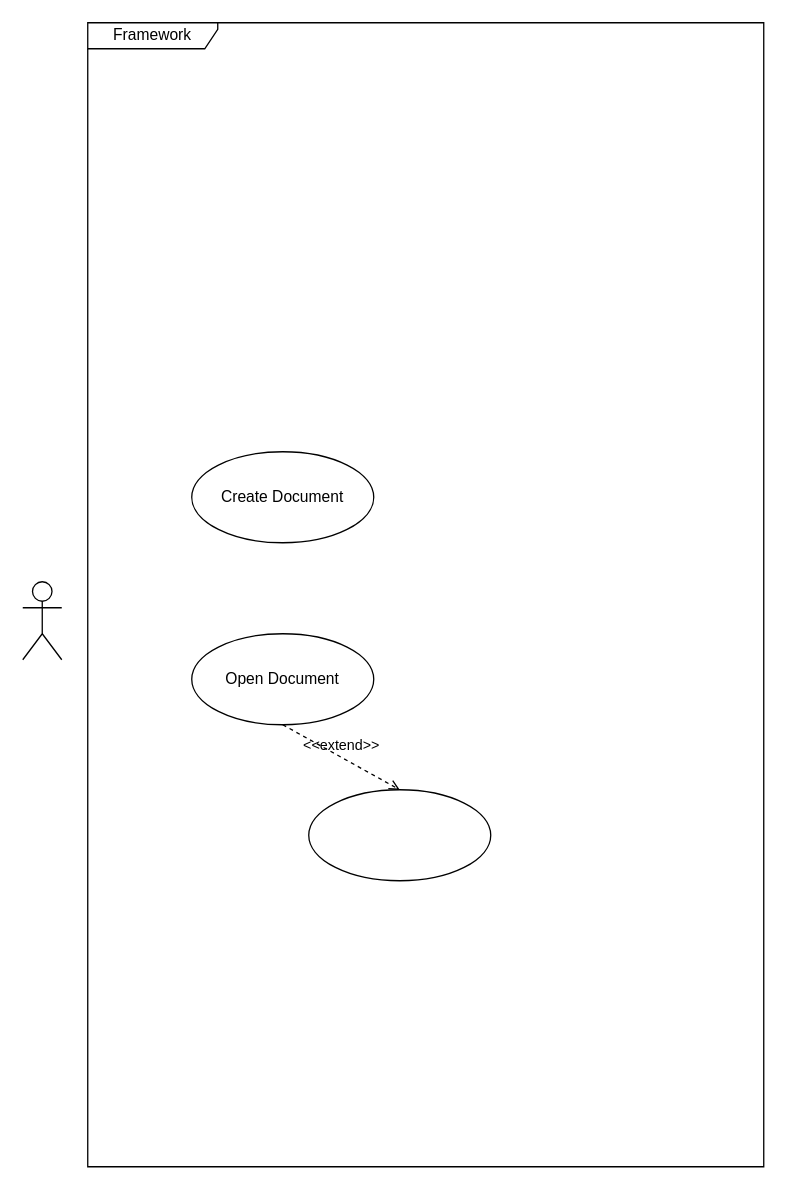
Some shapes in this 787 by 1190 pixel diagram are drawn without their labels. The shapes that lost their labels are listed below. From the top down, each one's centre as x and y in pixels, then its label:
the point at 41,620: User
the point at 399,834: Close Document
